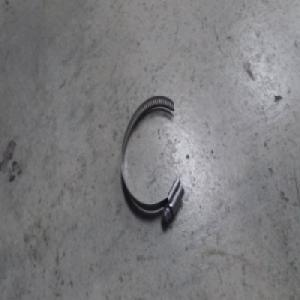AdjustableClamp: (120, 91, 186, 219)
